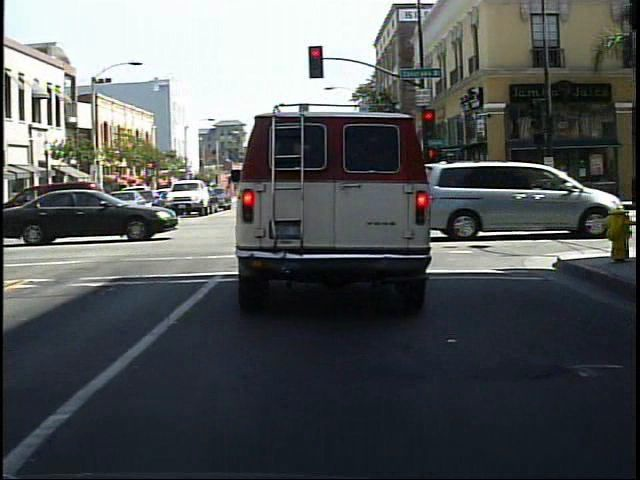person: (530, 158, 551, 210), (511, 166, 531, 210)
